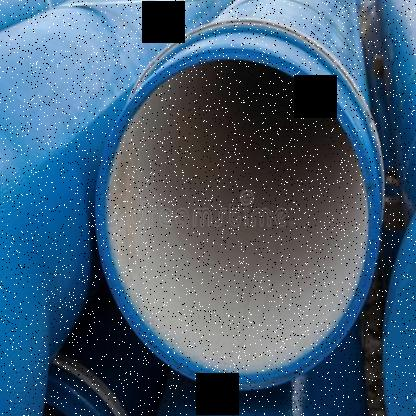pipe: (95, 44, 378, 389)
